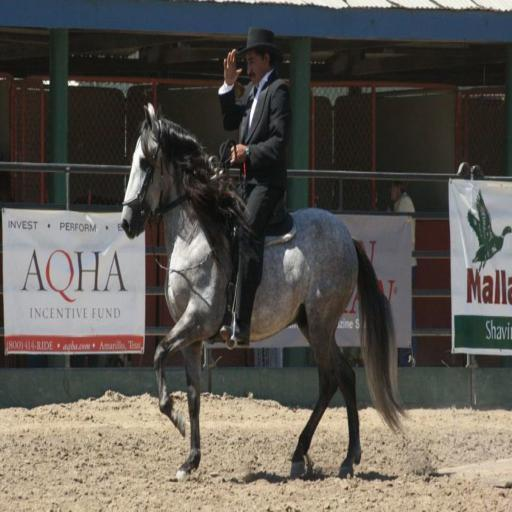horse: (120, 99, 414, 484)
